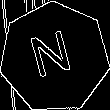N_S: (29, 28, 80, 87)
